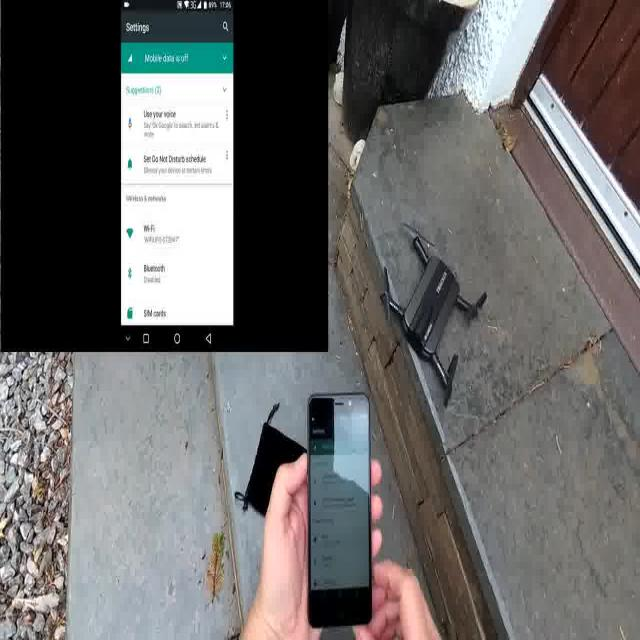drone: (380, 218, 490, 410)
